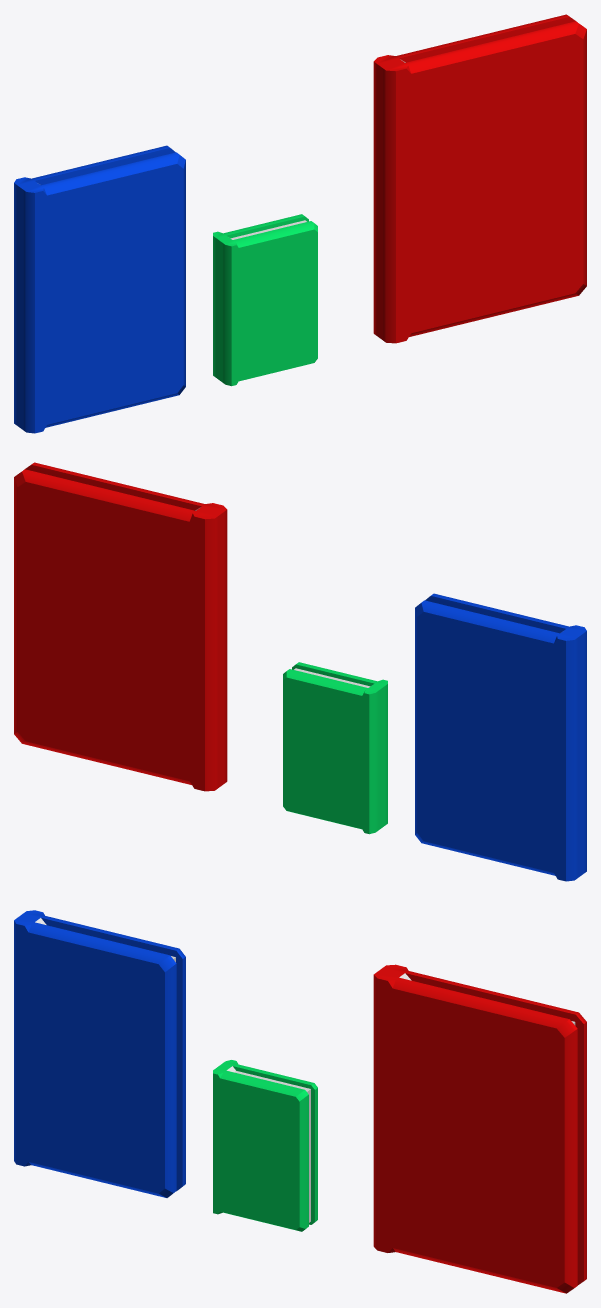
File: Books.fbx
3 renders of one model, top to bottom at view 1: azimuth 30°, elevation 25°; view 2: azimuth 150°, elevation 25°; view 3: azimuth 330°, elevation 25°, orthographic.
Visible parts, largest first — view 1: pCube4, pCube1, pCube2; view 2: pCube4, pCube1, pCube2; view 3: pCube4, pCube1, pCube2.
Part boxes in pixels (x1=…): pCube4: x1=373, y1=14, x2=586, y2=343; pCube1: x1=14, y1=145, x2=185, y2=433; pCube2: x1=213, y1=214, x2=317, y2=386; pCube4: x1=14, y1=462, x2=227, y2=791; pCube1: x1=415, y1=593, x2=586, y2=881; pCube2: x1=283, y1=662, x2=387, y2=834; pCube4: x1=373, y1=964, x2=586, y2=1293; pCube1: x1=14, y1=910, x2=185, y2=1197; pCube2: x1=213, y1=1060, x2=317, y2=1231.
Bounding box in the file's own units: 20.48 × 9.6 × 1.18.
